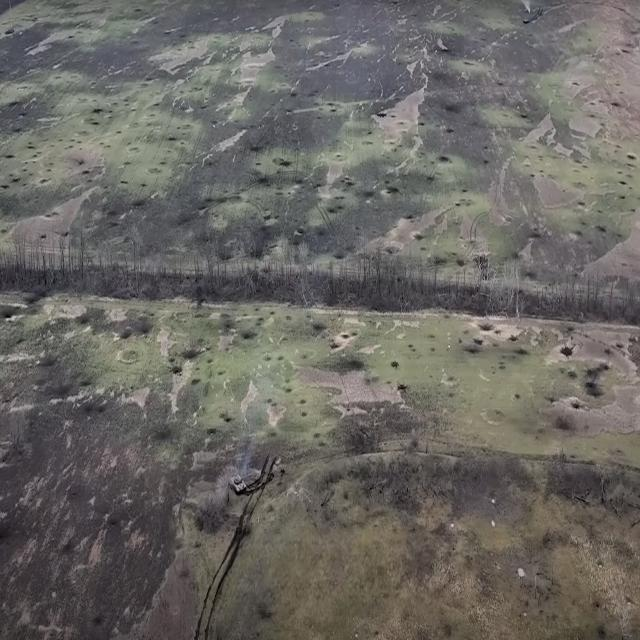AIFV: (524, 19, 533, 26)
MBT: (230, 470, 254, 500)
